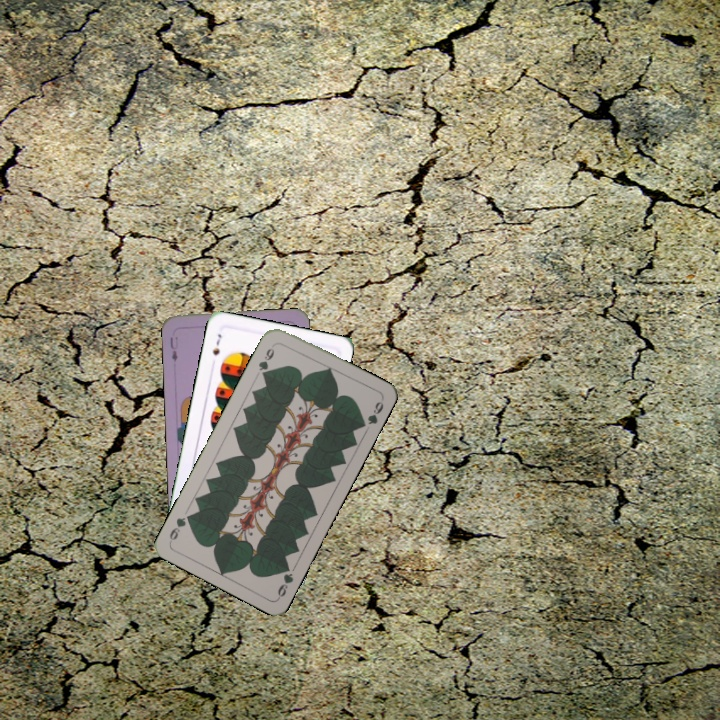EU: (166, 333, 181, 365)
G9: (254, 340, 278, 380), (273, 560, 296, 601)
S7: (208, 330, 224, 358)
